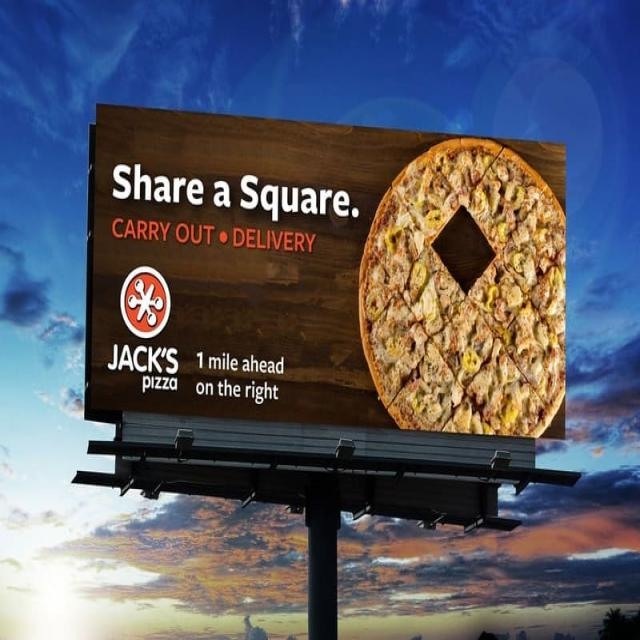Werbetafel frei: (84, 100, 573, 442)
